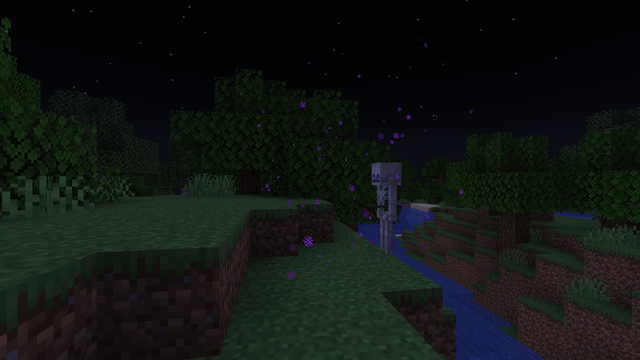squelettes: (368, 162, 404, 254)
